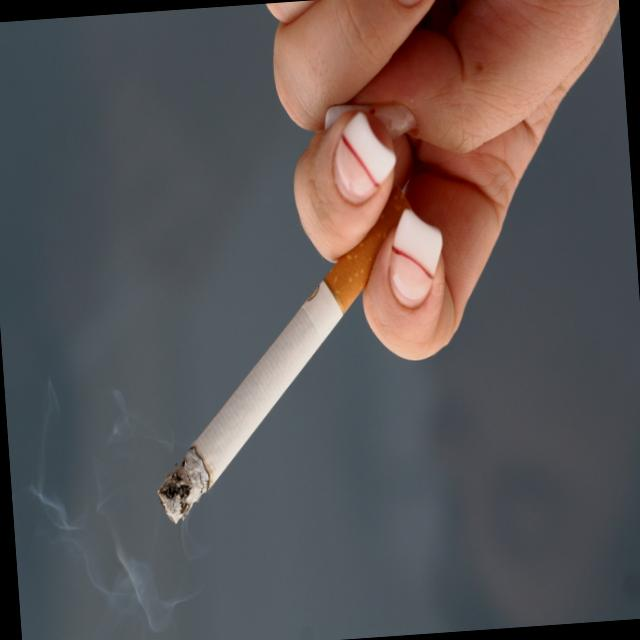smoke: (139, 188, 429, 527)
